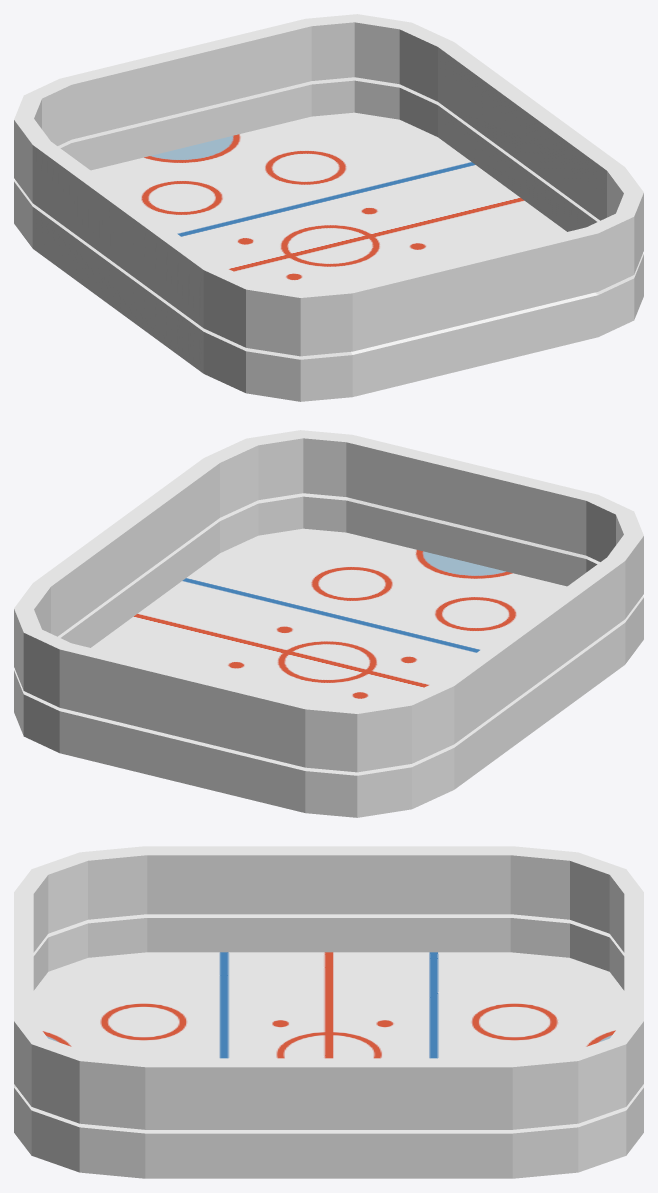
Rendered from rink.glb.
3 views of the same model, one above another, from view 1: azimuth 30°, elevation 25°; view 2: azimuth 150°, elevation 25°; view 3: azimuth 270°, elevation 25° (orthographic). The views are drawn at different scales.
Visible parts, largest first — view 1: Cube; view 2: Cube; view 3: Cube.
Part boxes in pixels (x1,y1,x2,y2): Cube: [14, 14, 643, 401]; Cube: [14, 430, 643, 817]; Cube: [14, 846, 643, 1178].
Bounding box in the file's own units: 20.05 × 4.72 × 24.15.
3 materials, 1 textured.
